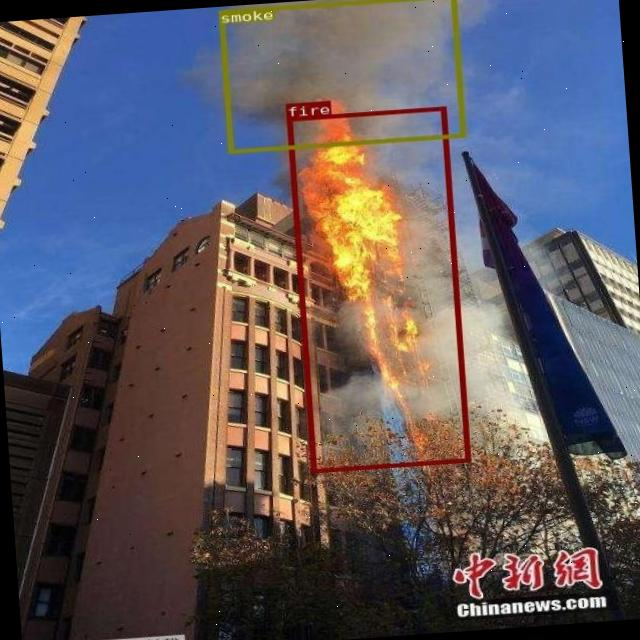fire: (286, 106, 469, 472)
smoke: (217, 0, 464, 153)
